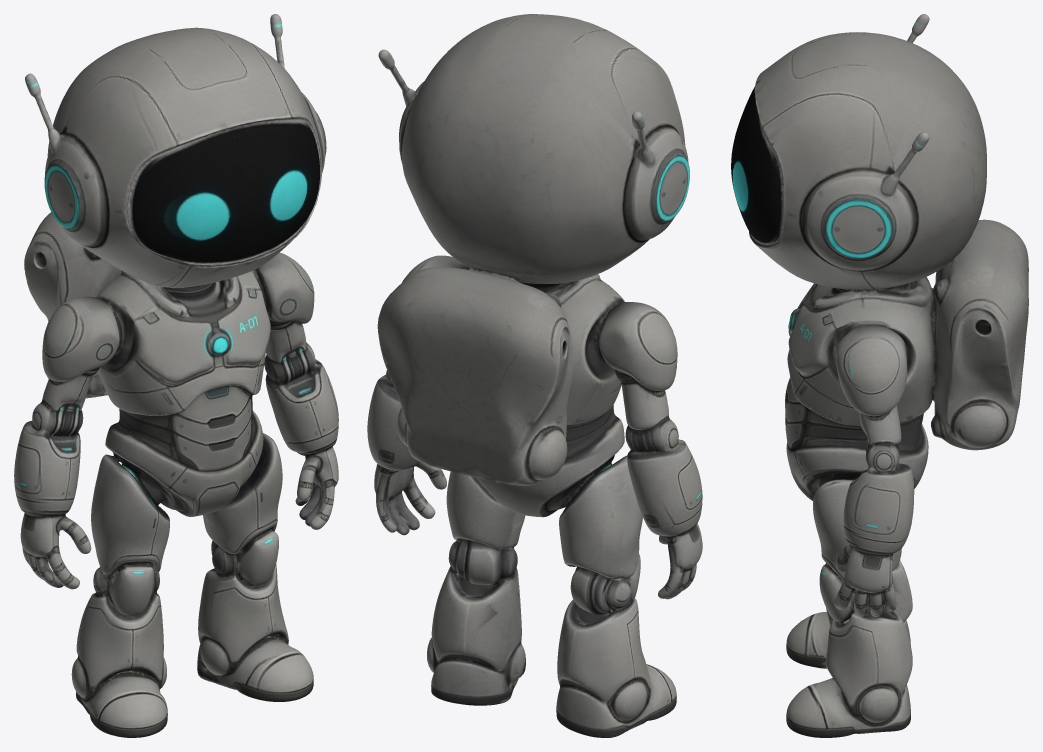
The model's file is school-bot.opt.glb.
The picture shows the model from 3 angles, left to right: view 1: azimuth 30°, elevation 25°; view 2: azimuth 150°, elevation 25°; view 3: azimuth 270°, elevation 25°; orthographic projection. The views are drawn at different scales.
Bounding box in the file's own units: 0.9554 × 1.9 × 0.797.
Materials: 1 (1 with a texture image).
